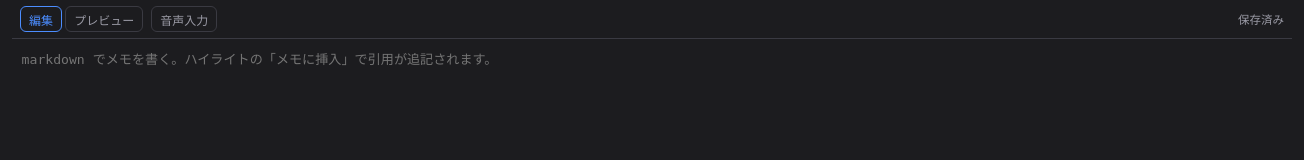
NotesPanel dictation button › shows the hint and focuses the editor on click
Click the button "音声入力". click: click(184, 19)
box: [151, 6, 217, 32]
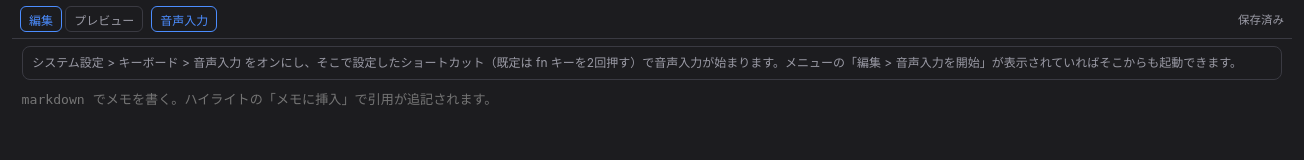
Expected: the button "音声入力" is expanded, [151, 6, 217, 32]
